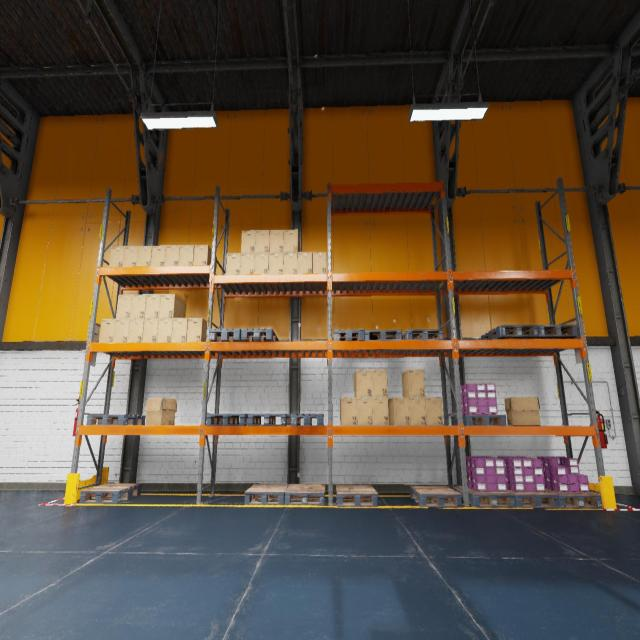box: (505, 396, 540, 426), (144, 398, 177, 426), (159, 294, 186, 318), (388, 397, 411, 425), (402, 369, 425, 397), (193, 245, 217, 271), (312, 252, 327, 286), (425, 397, 443, 425), (186, 318, 207, 342), (354, 370, 372, 397), (409, 397, 426, 425), (372, 397, 389, 425), (340, 397, 357, 425), (357, 397, 373, 425), (372, 370, 388, 397), (171, 318, 188, 342), (144, 294, 161, 318), (127, 319, 144, 342), (113, 319, 130, 342), (157, 318, 173, 342), (142, 318, 158, 342), (130, 294, 146, 318), (99, 319, 115, 342), (116, 295, 132, 318), (284, 229, 300, 252), (108, 246, 125, 267), (150, 245, 166, 266), (136, 245, 152, 266), (283, 252, 298, 274), (269, 230, 284, 252), (255, 230, 270, 252), (241, 230, 255, 253), (164, 245, 180, 265), (254, 253, 269, 274), (240, 253, 255, 274), (269, 252, 283, 274), (179, 245, 194, 265), (123, 246, 138, 266), (298, 252, 312, 273), (226, 253, 240, 274)
pallets: (456, 486, 516, 508), (80, 483, 142, 503), (409, 486, 462, 508), (545, 488, 603, 508), (507, 489, 559, 508), (244, 484, 289, 505), (336, 485, 378, 507), (284, 484, 324, 506), (519, 325, 578, 339), (481, 325, 538, 339), (86, 414, 145, 426), (451, 415, 506, 425), (206, 414, 248, 426), (248, 414, 290, 426), (241, 328, 279, 341), (209, 328, 242, 342), (290, 413, 324, 426), (402, 330, 444, 340), (364, 330, 402, 340), (334, 329, 364, 340)
